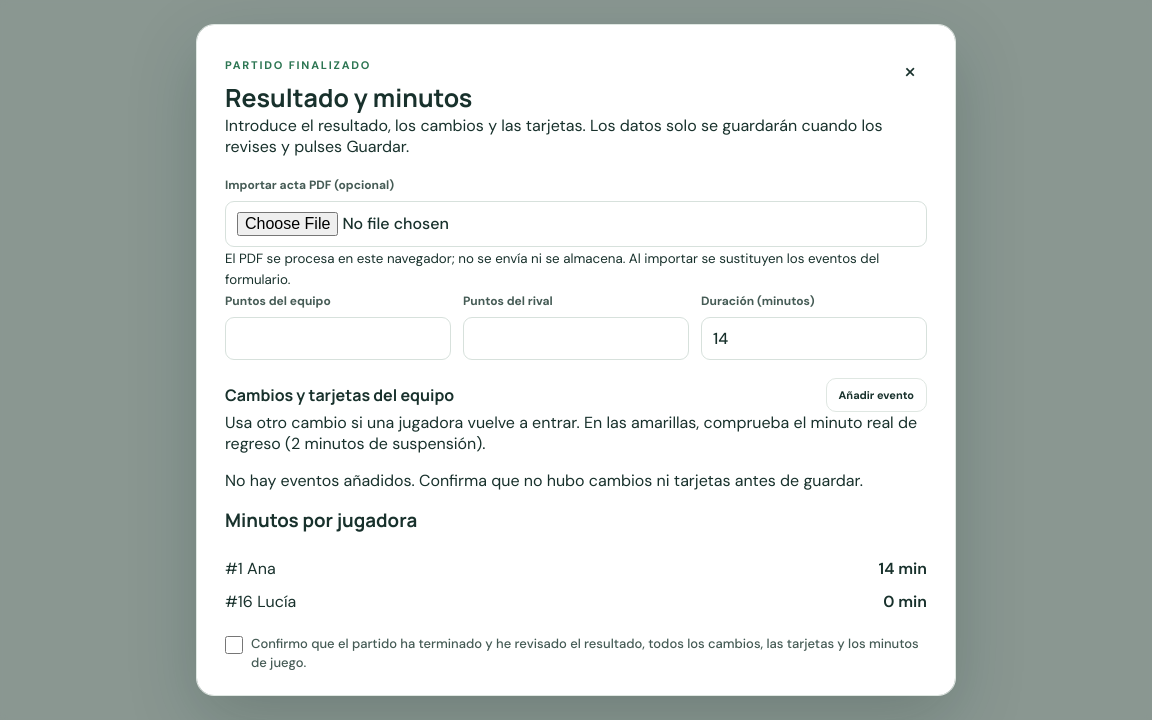
Scenario: MatchReportDialog › proposes the seven suspension and lets the coach correct the return or record no return
The image size is (1152, 720).
Click the button "Añadir evento". click: (876, 395)
box: [826,378,927,412]
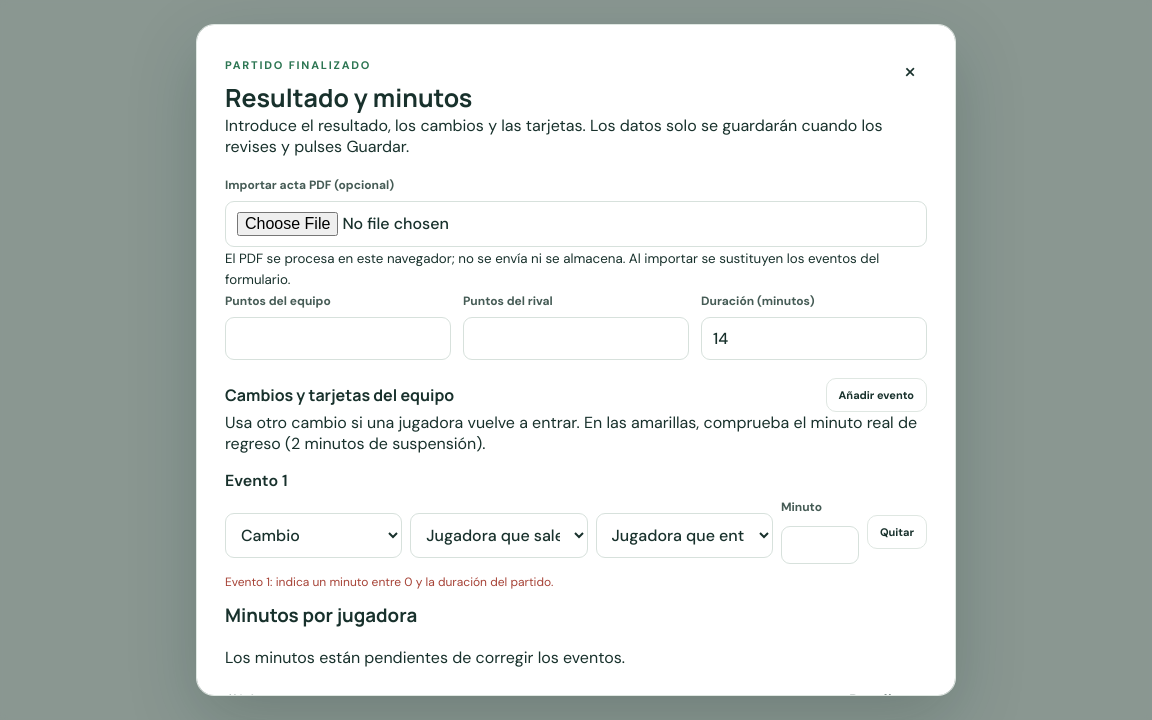
Select "Tarjeta amarilla" in the dropdown named "Tipo de evento 1". click: (314, 535)
box: [225,512,402,558]
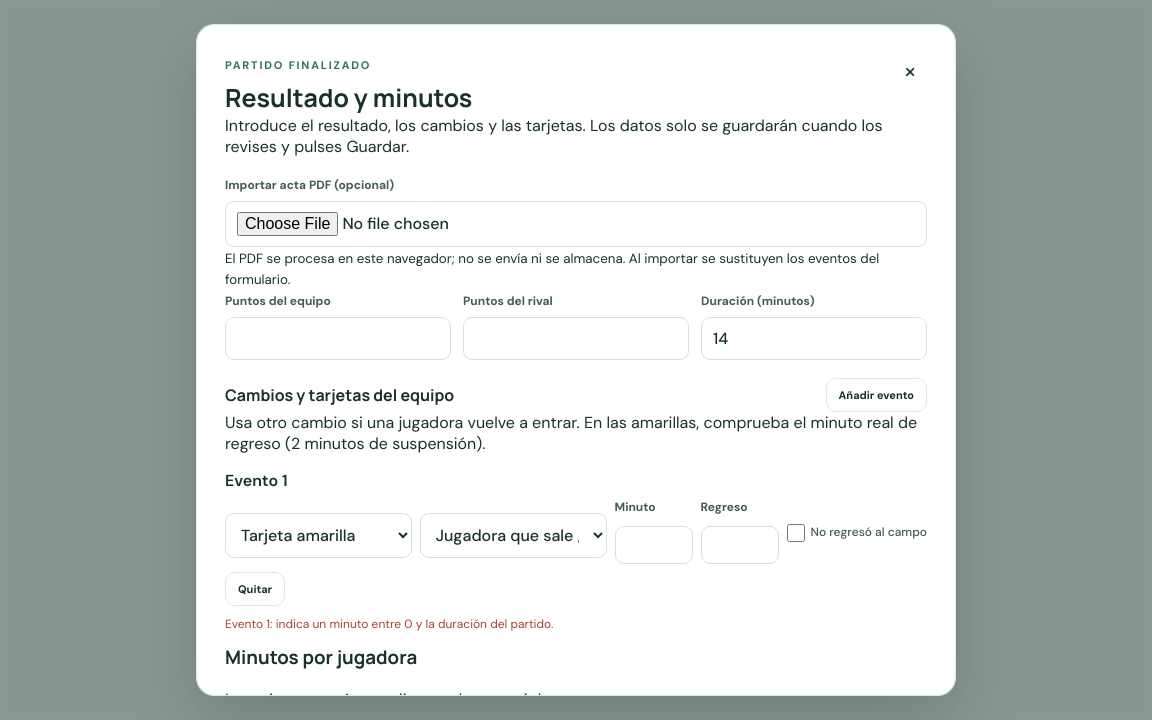
Select "#1 Ana" in the dropdown named "Jugadora del evento 1". click: (513, 535)
box: [420,512,607,558]
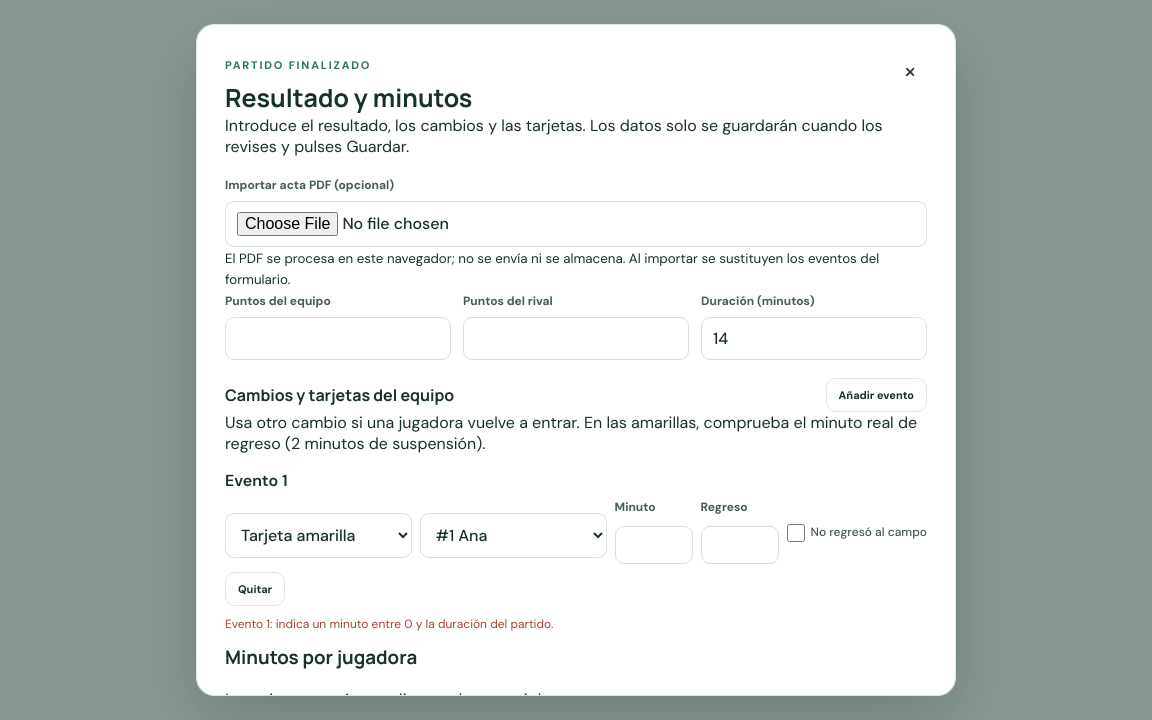
Type "4" into the number field named "Minuto del evento 1". click: (654, 545)
box: [614,526,692,564]
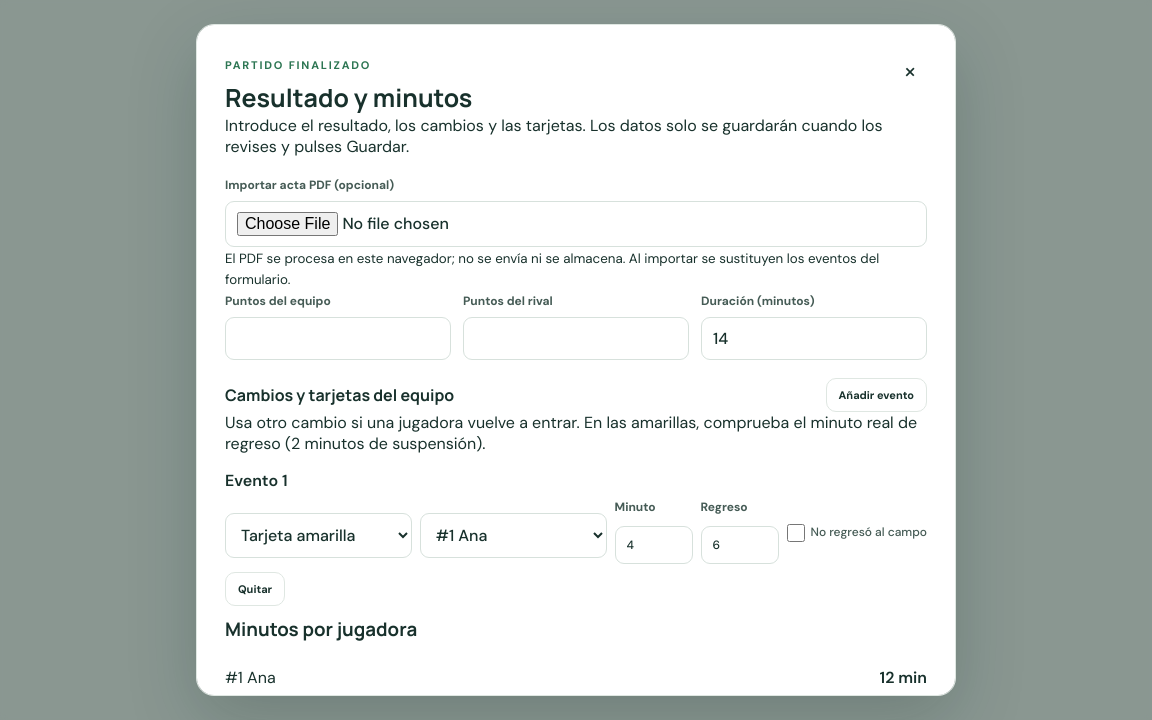
Expected: the number field named "Minuto de regreso del evento 1" holds "6"
Expected: the text "12 min" is shown, [880,667,927,688]
Replace the text in the number field named "Minuto de regreso del evento 1" with "7". click: (740, 545)
box: [700,526,778,564]
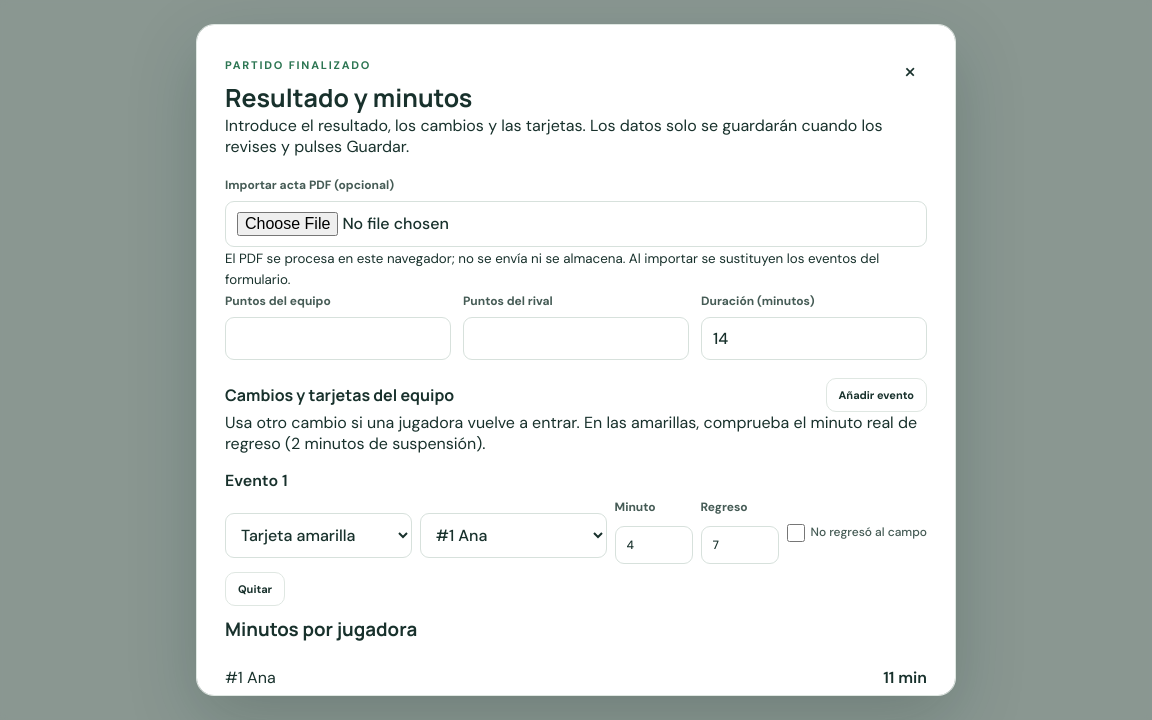
Expected: the text "11 min" is shown, [883,667,927,688]
Click the checkbox labelled "No regresó al campo". click: (796, 532)
box: [786,524,804,542]
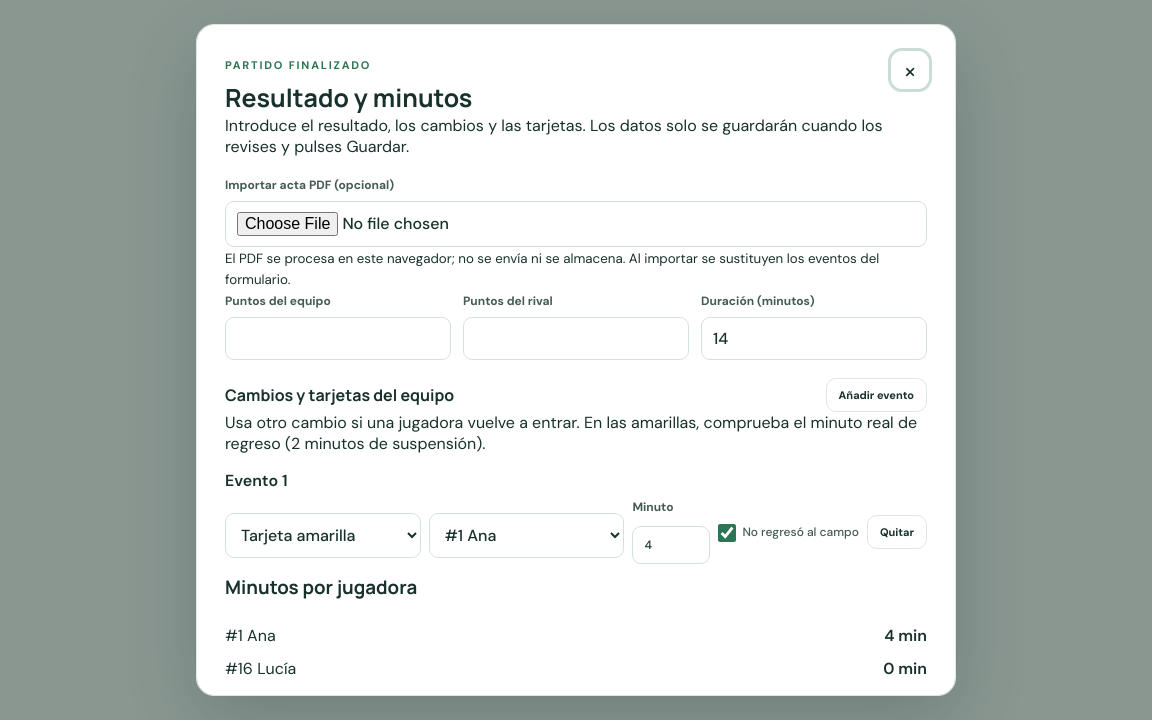
Expected: the text "4 min" is shown, [884,625,927,646]
